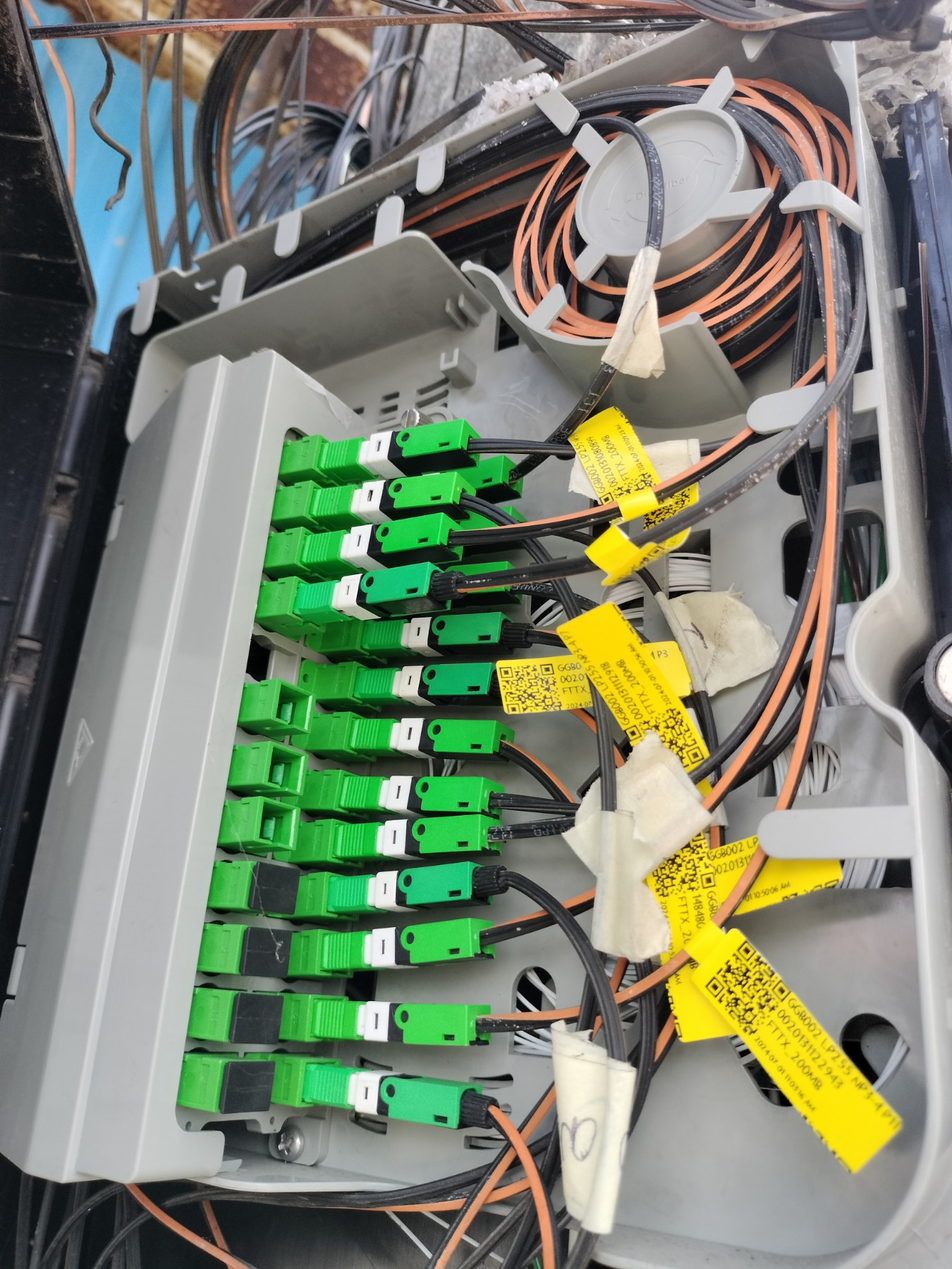no dust cap: (272, 680, 316, 735), (266, 741, 306, 796), (258, 798, 300, 850)
no port: (244, 632, 302, 695)
occupied: (305, 1060, 499, 1138), (300, 555, 468, 633), (329, 859, 517, 921), (320, 916, 498, 977), (317, 471, 481, 537), (310, 510, 461, 579), (319, 422, 487, 479), (348, 713, 522, 767), (312, 997, 491, 1046), (333, 811, 514, 859), (361, 612, 535, 661), (371, 504, 531, 556), (341, 772, 517, 818), (369, 560, 533, 605), (375, 457, 527, 504), (356, 664, 520, 704)
vacant: (244, 859, 302, 916), (221, 1061, 276, 1114), (231, 993, 283, 1043), (242, 927, 294, 977)
